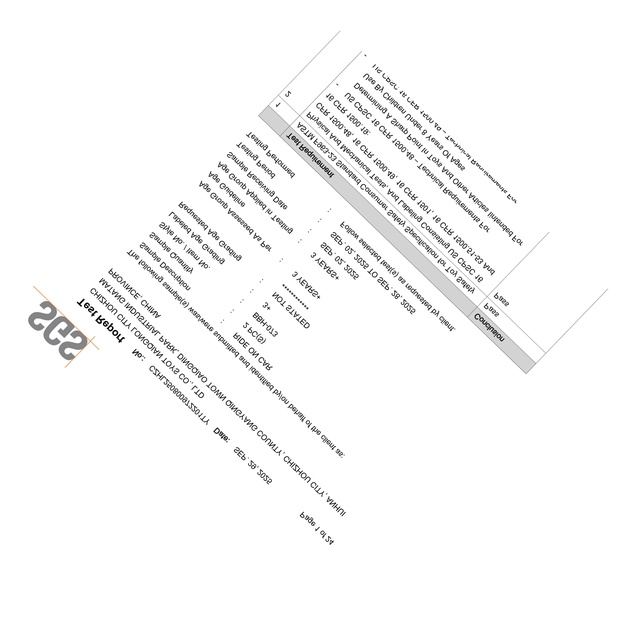sgs: (28, 299, 88, 361)
